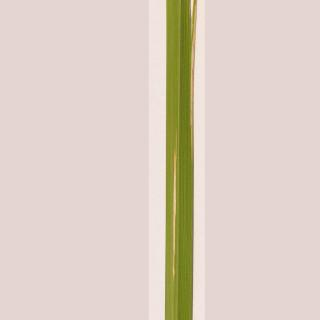Hawar-Daun: (180, 0, 204, 136), (163, 142, 186, 266)
